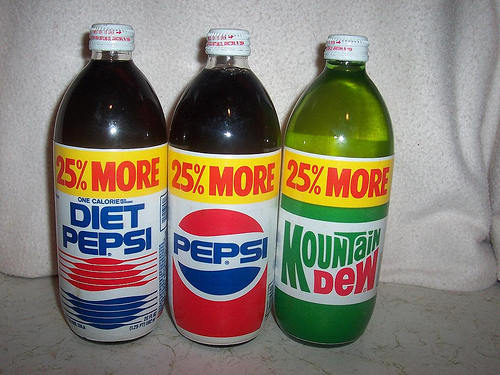Rec_Glass: (273, 22, 397, 352), (47, 19, 170, 346), (169, 24, 284, 350)
